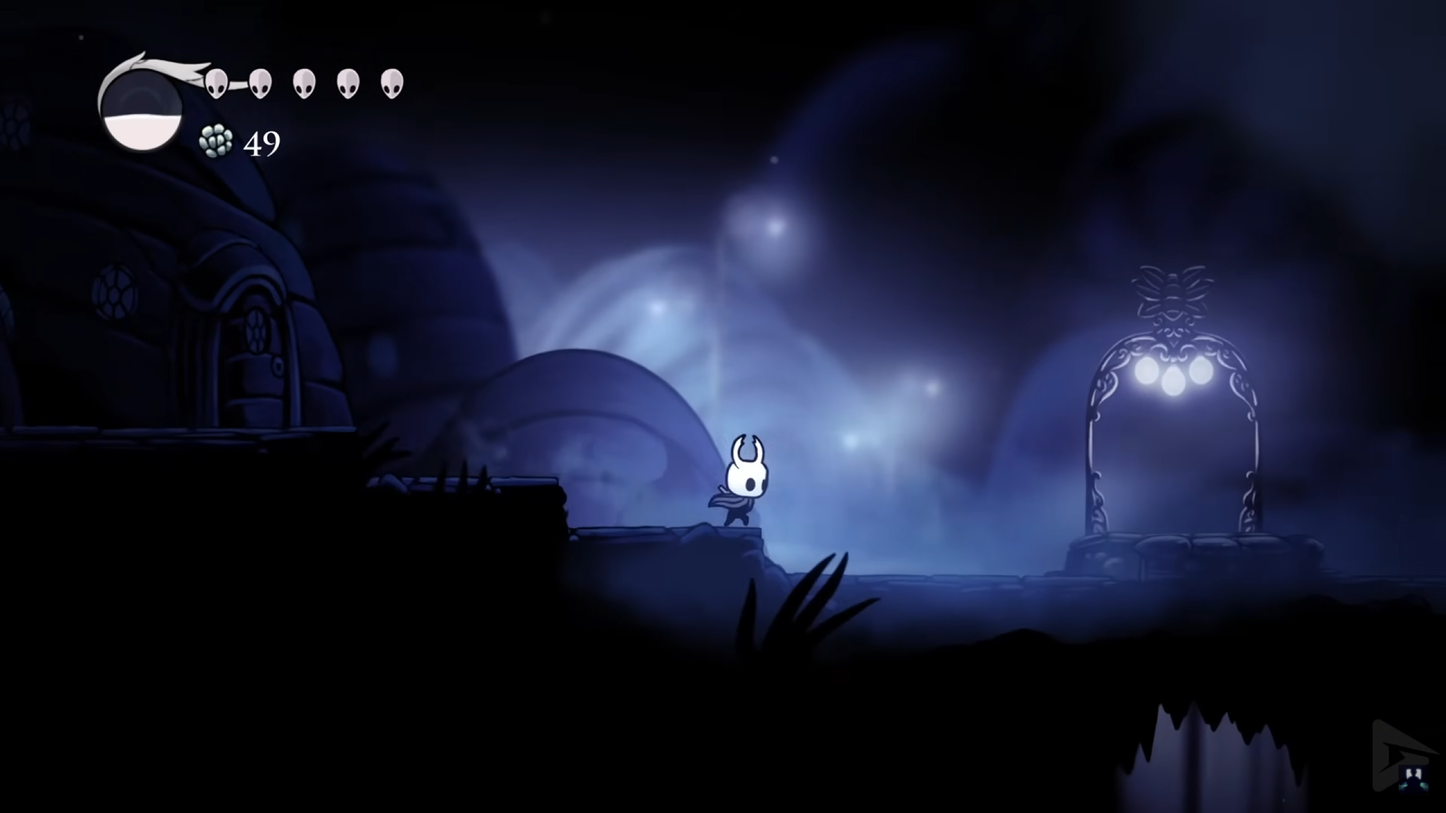HK: (709, 434, 773, 528)
